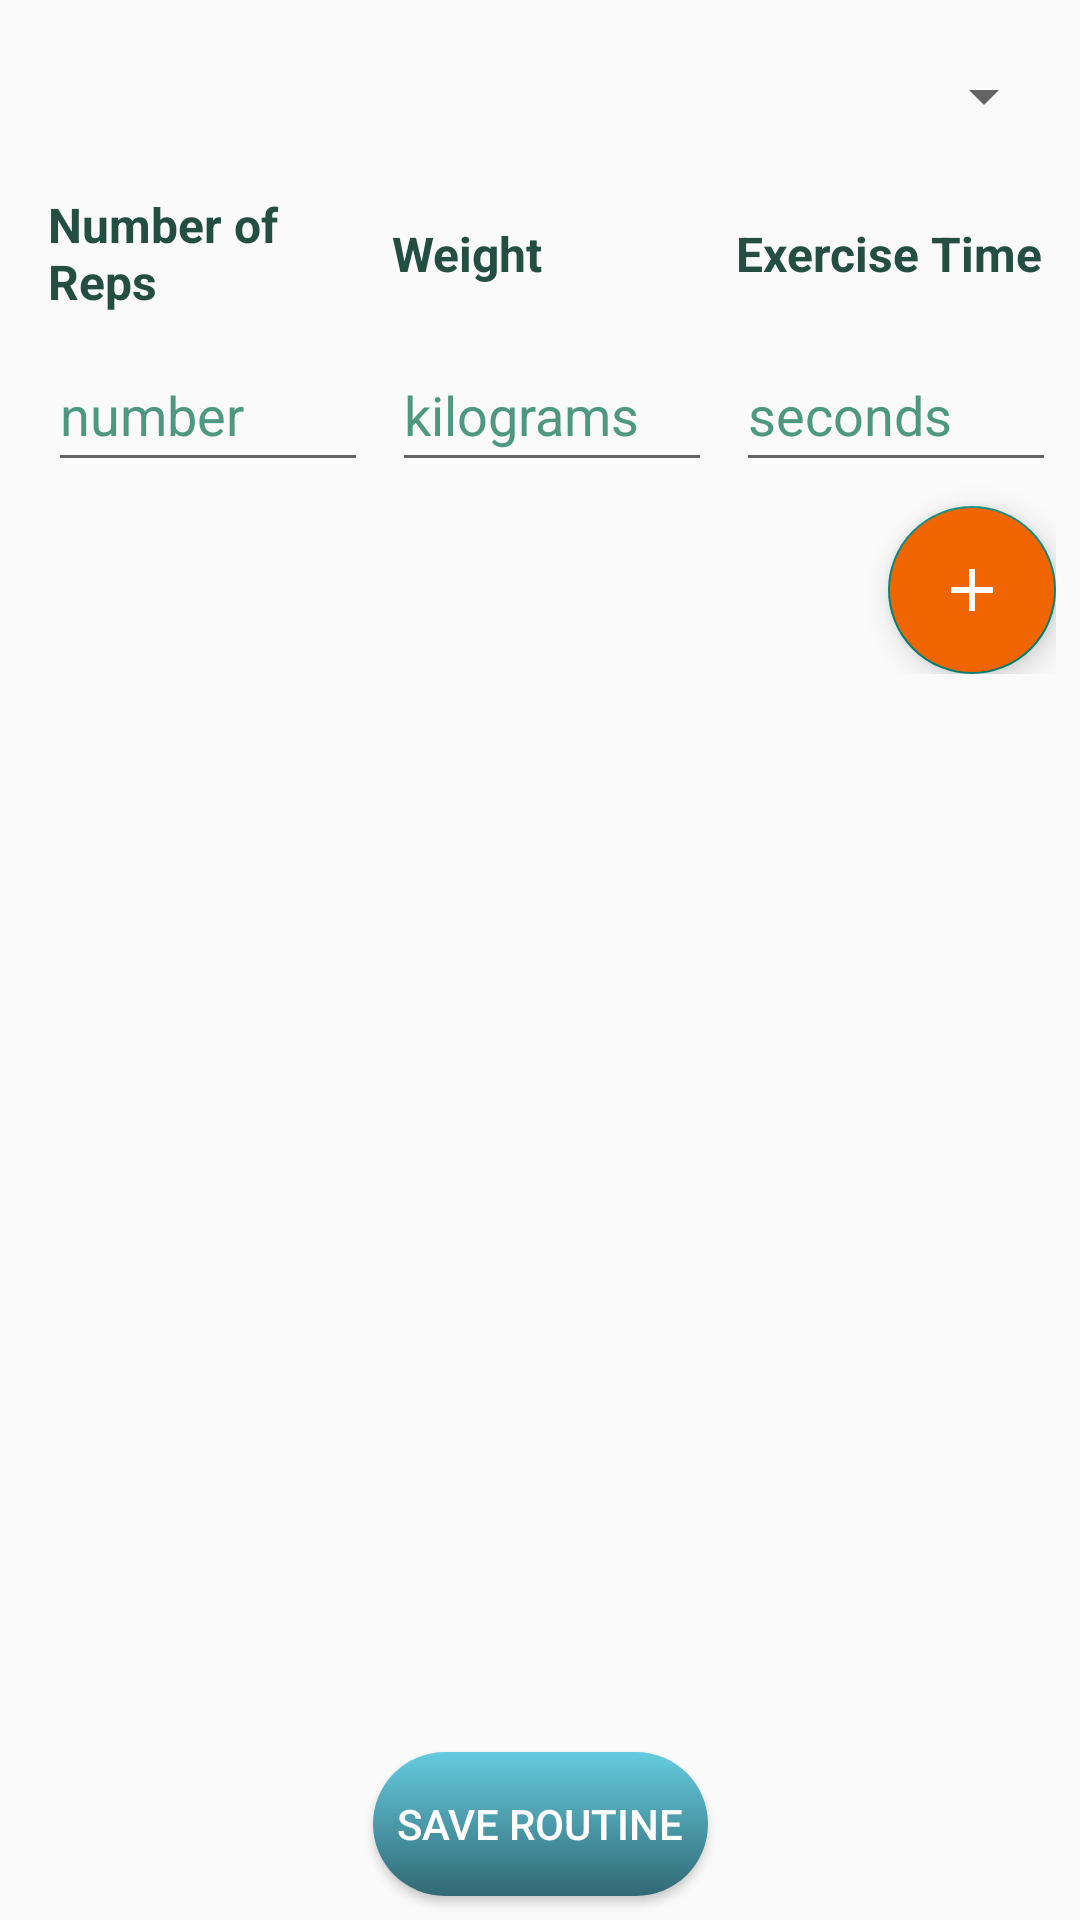

Screen size 1080×1920. Icon name, then its center in pixels as [x,y]:
Add Exercise: [972,590]
